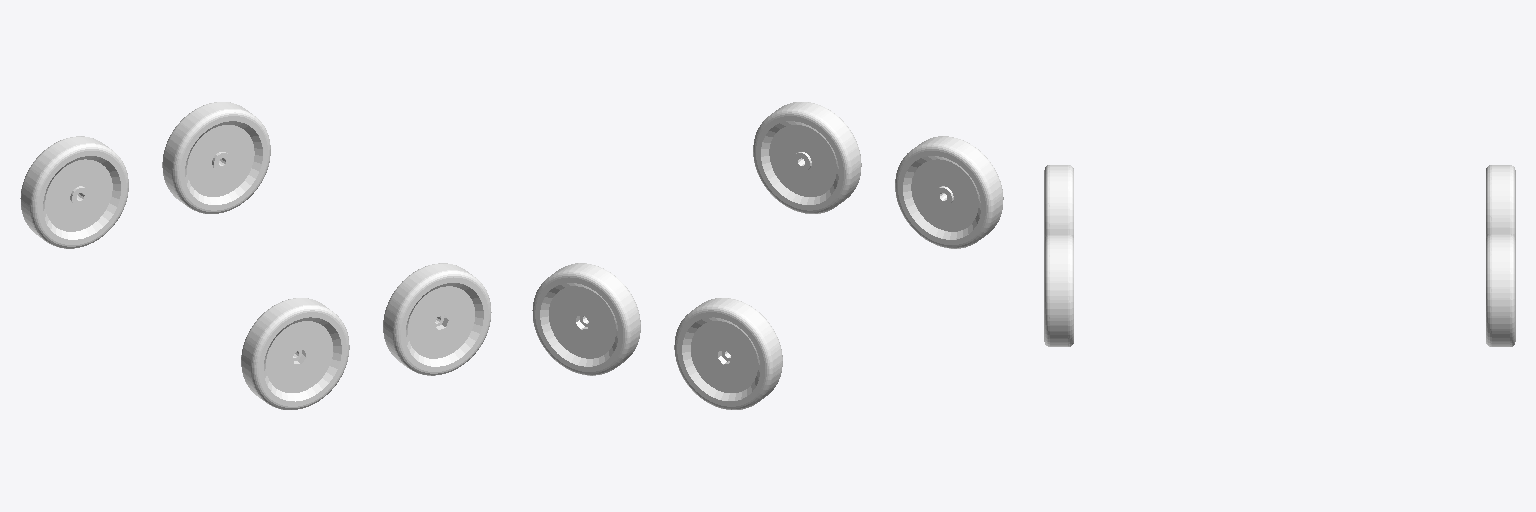
URDF robot description (robotti_5):
<?xml version="1.0" encoding="utf-8"?>
<!-- This URDF was automatically created by SolidWorks to URDF Exporter! Originally created by [author] ([email redacted]) 
     Commit Version: 1.5.1-0-g916b5db  Build Version: 1.5.7152.31018
     For more information, please see http://wiki.ros.org/sw_urdf_exporter -->
<robot
  name="robotti_5">
  <link
    name="base_link">
    <inertial>
      <origin
        xyz="-0.0063844 -0.00089536 0.050922"
        rpy="0 0 0" />
      <mass
        value="10.125" />
      <inertia
        ixx="0.11247"
        ixy="1.1247E-06"
        ixz="0.0046086"
        iyy="0.05265"
        iyz="1.5894E-05"
        izz="0.15325" />
    </inertial>
    <visual>
      <origin
        xyz="0 0 0"
        rpy="0 0 0" />
      <geometry>
        <mesh
          filename="package://robotti_5/meshes/base_link.STL" />
      </geometry>
      <material
        name="">
        <color
          rgba="0.75294 0.75294 0.75294 1" />
      </material>
    </visual>
    <collision>
      <origin
        xyz="0 0 0"
        rpy="0 0 0" />
      <geometry>
        <mesh
          filename="package://robotti_5/meshes/base_hitbox.STL" />
      </geometry>
    </collision>
  </link>
  <link
    name="BL_wheel_link">
    <inertial>
      <origin
        xyz="0 -5.3954E-05 -6.9389E-18"
        rpy="0 0 0" />
      <mass
        value="0.1551" />
      <inertia
        ixx="0.00011488"
        ixy="-4.8959E-21"
        ixz="-4.2911E-21"
        iyy="0.00021802"
        iyz="3.9559E-24"
        izz="0.00011488" />
    </inertial>
    <visual>
      <origin
        xyz="0 0 0"
        rpy="0 0 0" />
      <geometry>
        <mesh
          filename="package://robotti_5/meshes/BL_wheel_link.STL" />
      </geometry>
      <material
        name="">
        <color
          rgba="1 1 1 1" />
      </material>
    </visual>
    <collision>
      <origin
        xyz="0 0 0"
        rpy="0 0 0" />
      <geometry>
        <mesh
          filename="package://robotti_5/meshes/BL_wheel_link.STL" />
      </geometry>
    </collision>
  </link>
  <joint
    name="BL_wheel_joint"
    type="continuous">
    <origin
      xyz="-0.125 0.195 0.05"
      rpy="0 0 0" />
    <parent
      link="base_link" />
    <child
      link="BL_wheel_link" />
    <axis
      xyz="0 -1 0" />
  </joint>
  <link
    name="BR_wheel_link">
    <inertial>
      <origin
        xyz="0 5.3954E-05 -6.9389E-18"
        rpy="0 0 0" />
      <mass
        value="0.1551" />
      <inertia
        ixx="0.00011488"
        ixy="9.4757E-22"
        ixz="4.5402E-20"
        iyy="0.00021802"
        iyz="5.7604E-21"
        izz="0.00011488" />
    </inertial>
    <visual>
      <origin
        xyz="0 0 0"
        rpy="0 0 0" />
      <geometry>
        <mesh
          filename="package://robotti_5/meshes/BR_wheel_link.STL" />
      </geometry>
      <material
        name="">
        <color
          rgba="1 1 1 1" />
      </material>
    </visual>
    <collision>
      <origin
        xyz="0 0 0"
        rpy="0 0 0" />
      <geometry>
        <mesh
          filename="package://robotti_5/meshes/BR_wheel_link.STL" />
      </geometry>
    </collision>
  </link>
  <joint
    name="BR_wheel_joint"
    type="continuous">
    <origin
      xyz="-0.125 -0.195 0.05"
      rpy="0 0 0" />
    <parent
      link="base_link" />
    <child
      link="BR_wheel_link" />
    <axis
      xyz="0 -1 0" />
  </joint>
  <link
    name="FR_wheel_link">
    <inertial>
      <origin
        xyz="0 5.3954E-05 -6.9389E-18"
        rpy="0 0 0" />
      <mass
        value="0.1551" />
      <inertia
        ixx="0.00011488"
        ixy="-7.6052E-21"
        ixz="-9.4109E-21"
        iyy="0.00021802"
        iyz="4.9245E-21"
        izz="0.00011488" />
    </inertial>
    <visual>
      <origin
        xyz="0 0 0"
        rpy="0 0 0" />
      <geometry>
        <mesh
          filename="package://robotti_5/meshes/FR_wheel_link.STL" />
      </geometry>
      <material
        name="">
        <color
          rgba="1 1 1 1" />
      </material>
    </visual>
    <collision>
      <origin
        xyz="0 0 0"
        rpy="0 0 0" />
      <geometry>
        <mesh
          filename="package://robotti_5/meshes/FR_wheel_link.STL" />
      </geometry>
    </collision>
  </link>
  <joint
    name="FR_wheel_joint"
    type="continuous">
    <origin
      xyz="0.01984 -0.195 0.05"
      rpy="0 0 0" />
    <parent
      link="base_link" />
    <child
      link="FR_wheel_link" />
    <axis
      xyz="0 -1 0" />
  </joint>
  <link
    name="FL_wheel_link">
    <inertial>
      <origin
        xyz="0 -5.3954E-05 -2.0817E-17"
        rpy="0 0 0" />
      <mass
        value="0.1551" />
      <inertia
        ixx="0.00011488"
        ixy="-1.3075E-20"
        ixz="1.364E-20"
        iyy="0.00021802"
        iyz="1.2418E-20"
        izz="0.00011488" />
    </inertial>
    <visual>
      <origin
        xyz="0 0 0"
        rpy="0 0 0" />
      <geometry>
        <mesh
          filename="package://robotti_5/meshes/FL_wheel_link.STL" />
      </geometry>
      <material
        name="">
        <color
          rgba="1 1 1 1" />
      </material>
    </visual>
    <collision>
      <origin
        xyz="0 0 0"
        rpy="0 0 0" />
      <geometry>
        <mesh
          filename="package://robotti_5/meshes/FL_wheel_link.STL" />
      </geometry>
    </collision>
  </link>
  <joint
    name="FL_wheel_joint"
    type="continuous">
    <origin
      xyz="0.01984 0.195 0.05"
      rpy="0 0 0" />
    <parent
      link="base_link" />
    <child
      link="FL_wheel_link" />
    <axis
      xyz="0 -1 0" />
  </joint>
</robot>

--- What the picture shows (computed from the rendered views, not written in the file) ---
3 views of the same robot in one strip: view 1: azimuth 30°, elevation 25°; view 2: azimuth 150°, elevation 25°; view 3: azimuth 270°, elevation 25° (orthographic).
Model robotti_5 with 5 links and 4 joints (4 continuous), rooted at base_link, posed all joints at 0.
Visible links, largest first — view 1: FL_wheel_link, BR_wheel_link, BL_wheel_link, FR_wheel_link; view 2: BL_wheel_link, BR_wheel_link, FR_wheel_link, FL_wheel_link; view 3: FL_wheel_link, FR_wheel_link, BR_wheel_link, BL_wheel_link.
Link boxes in pixels (box(x1,y1,x2,y2)): FL_wheel_link: box(162, 102, 270, 213); BR_wheel_link: box(241, 298, 349, 409); BL_wheel_link: box(20, 136, 128, 248); FR_wheel_link: box(383, 263, 491, 375); BL_wheel_link: box(674, 298, 782, 409); BR_wheel_link: box(895, 136, 1003, 248); FR_wheel_link: box(753, 102, 861, 213); FL_wheel_link: box(532, 263, 640, 375); FL_wheel_link: box(1486, 234, 1515, 346); FR_wheel_link: box(1044, 234, 1073, 346); BR_wheel_link: box(1044, 165, 1073, 239); BL_wheel_link: box(1486, 165, 1515, 239).
Size in the robot's own frame: 0.2448 by 0.416 by 0.1 metres.
Meshes: 5 distinct files referenced, 4 mesh visuals loaded (4 binary STL); not drawn: 1 (reference not matched to a file when rendering).
